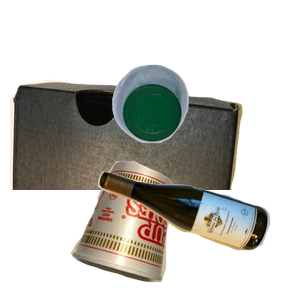cardboard: (10, 77, 245, 257)
glass: (95, 168, 300, 300)
plastic: (110, 62, 300, 198)
trash: (68, 158, 235, 300)
